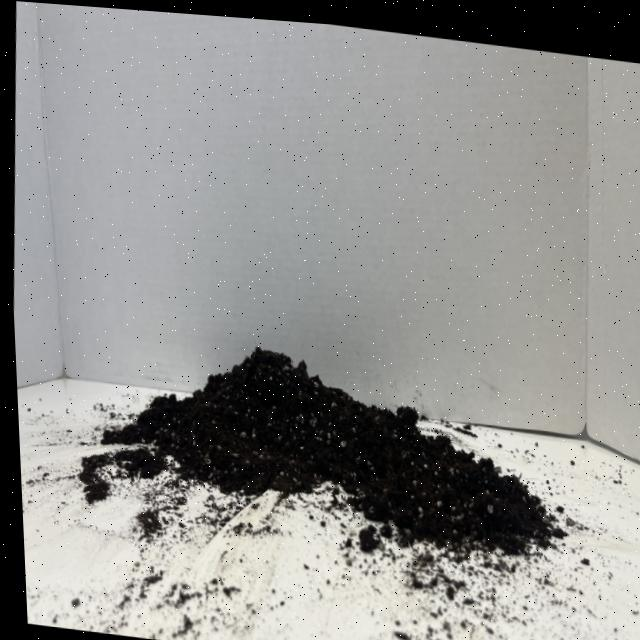soil: (69, 320, 578, 578)
